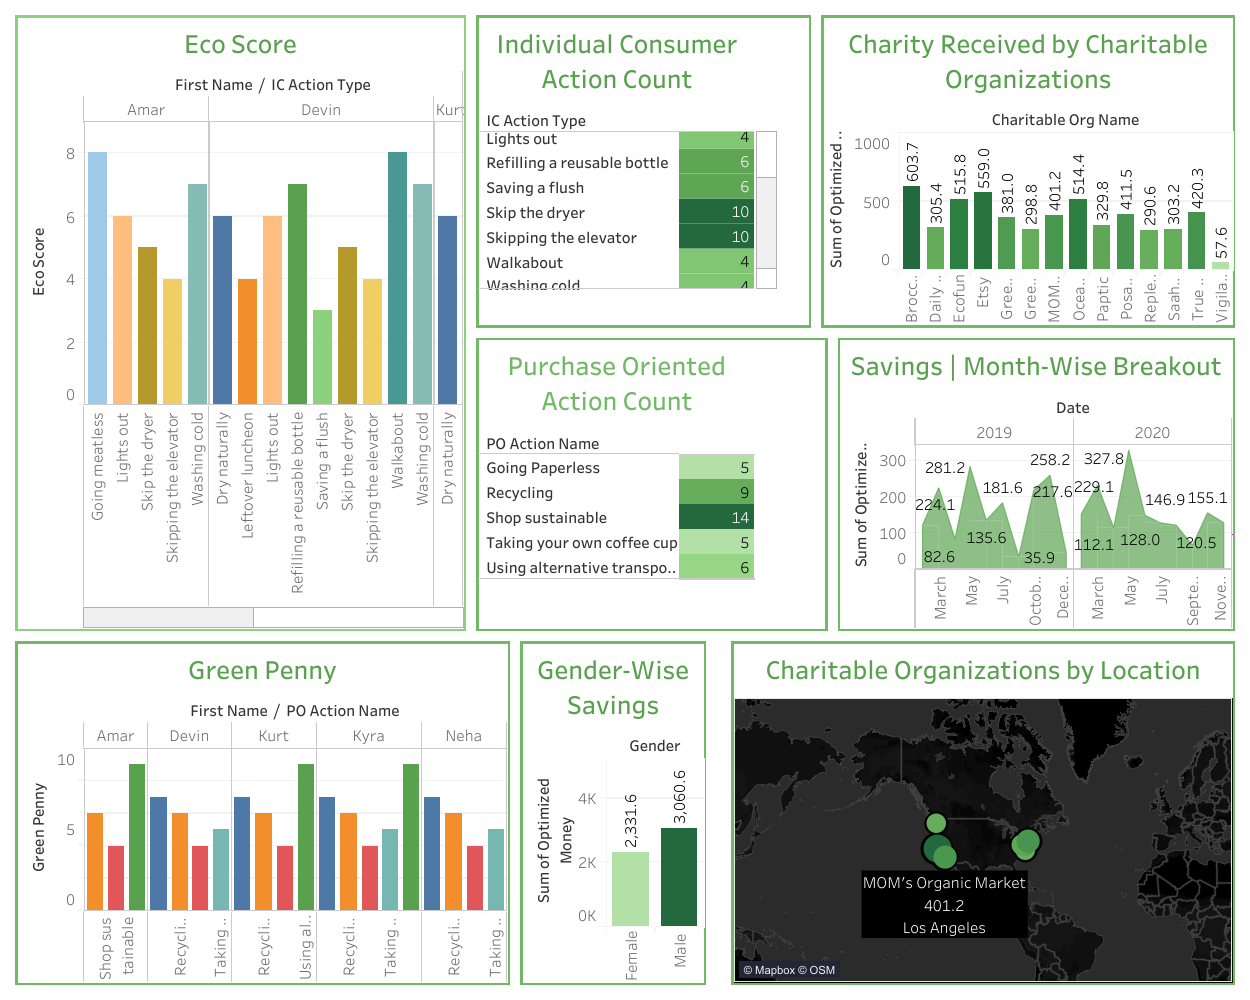

The dashboard page shown, as its layout file describes it:
{"tool":"tableau","page":{"name":"Dashboard 1","canvas":[1300,800],"ordinal":0},"visuals":[{"type":"worksheet","box":[0,0,1300,800]},{"type":"worksheet","param":"horz","box":[8,8,1284,784]},{"type":"worksheet","param":"horz","box":[8,8,1201,784]},{"type":"worksheet","param":"horz","box":[8,8,1201,784]},{"type":"worksheet","param":"horz","box":[8,8,1201,784]},{"type":"worksheet","param":"horz","box":[8,8,1201,784]},{"type":"worksheet","param":"horz","box":[8,8,1201,784]},{"type":"worksheet","param":"horz","box":[8,8,1201,784]},{"type":"worksheet","param":"horz","box":[8,8,1201,784]},{"type":"worksheet","param":"horz","box":[8,8,1201,784]},{"type":"worksheet","param":"horz","box":[8,8,1201,784]},{"type":"worksheet","param":"horz","box":[8,8,1201,784]},{"type":"worksheet","param":"horz","box":[8,8,1201,784]},{"type":"worksheet","box":[8,8,1201,784]},{"type":"worksheet","title":"Eco Score","mark":"Automatic","rows":["Eco Score"],"cols":["First_Name","IC_Action_Type"],"box":[8,8,317,501]},{"type":"worksheet","title":"Individual Consumer Action Count- View 1","mark":"Square","rows":["IC_Action_Type"],"box":[325,8,270,258]},{"type":"worksheet","title":"Charity Received by Charitable Organizations-View 1","mark":"Automatic","rows":["Calculation_776378410555744387"],"cols":["Charitable_Org_Name"],"box":[595,8,307,258]},{"type":"worksheet","title":"Charitable Organiations by Location","mark":"Automatic","box":[902,8,307,258]},{"type":"worksheet","param":"vert","box":[1209,8,83,784]},{"type":"worksheet","title":"Eco Score","mark":"Automatic","rows":["Eco Score"],"cols":["First_Name","IC_Action_Type"],"param":"[federated.19hixc1172wyis12emc420xpgt5j].[none:First_Name:nk]","box":[1209,8,83,153]},{"type":"worksheet","title":"Count of PO Actions View 2","mark":"Pie","param":"[federated.19hixc1172wyis12emc420xpgt5j].[sum:CarbonFootprint:qk]","box":[1209,161,83,47]},{"type":"worksheet","title":"Purchase Oriented Action Count- View 1","mark":"Square","rows":["PO_Action_Name"],"box":[325,266,270,243]},{"type":"worksheet","title":"Savings | Month Wise Breakout","mark":"Area","rows":["Calculation_776378410555744387"],"cols":["Date","Date"],"box":[595,266,614,243]},{"type":"worksheet","box":[8,509,1201,283]},{"type":"worksheet","param":"horz","box":[8,509,562,283]},{"type":"worksheet","title":"Green Penny","mark":"Automatic","rows":["Green Penny"],"cols":["First_Name","PO_Action_Name"],"box":[8,509,404,283]},{"type":"worksheet","title":"Gender-Wise Savings","mark":"Automatic","rows":["Calculation_776378410555744387"],"cols":["Gender"],"box":[412,509,157,283]},{"type":"worksheet","param":"horz","box":[570,509,639,283]},{"type":"worksheet","title":"Count of IC Actions- View 2","mark":"Pie","box":[570,509,319.5,283]},{"type":"worksheet","title":"Count of PO Actions View 2","mark":"Pie","box":[889.5,509,319.5,283]}]}

Visuals, with their boxes on the page's 1300x800 design canvas (x1, y1, x2, y2). These are canvas units, not pixel positions in the 1250x1000 screenshot, which may show the page scaled, cropped or inside an application window:
worksheet: <region>0, 0, 1300, 800</region>
worksheet: <region>8, 8, 1292, 792</region>
worksheet: <region>8, 8, 1209, 792</region>
worksheet: <region>8, 8, 1209, 792</region>
worksheet: <region>8, 8, 1209, 792</region>
worksheet: <region>8, 8, 1209, 792</region>
worksheet: <region>8, 8, 1209, 792</region>
worksheet: <region>8, 8, 1209, 792</region>
worksheet: <region>8, 8, 1209, 792</region>
worksheet: <region>8, 8, 1209, 792</region>
worksheet: <region>8, 8, 1209, 792</region>
worksheet: <region>8, 8, 1209, 792</region>
worksheet: <region>8, 8, 1209, 792</region>
worksheet: <region>8, 8, 1209, 792</region>
"Eco Score" worksheet: <region>8, 8, 325, 509</region>
"Individual Consumer Action Count- View 1" worksheet (Square marks): <region>325, 8, 595, 266</region>
"Charity Received by Charitable Organizations-View 1" worksheet: <region>595, 8, 902, 266</region>
"Charitable Organiations by Location" worksheet: <region>902, 8, 1209, 266</region>
worksheet: <region>1209, 8, 1292, 792</region>
"Eco Score" worksheet: <region>1209, 8, 1292, 161</region>
"Count of PO Actions View 2" worksheet (Pie marks): <region>1209, 161, 1292, 208</region>
"Purchase Oriented Action Count- View 1" worksheet (Square marks): <region>325, 266, 595, 509</region>
"Savings | Month Wise Breakout" worksheet (Area marks): <region>595, 266, 1209, 509</region>
worksheet: <region>8, 509, 1209, 792</region>
worksheet: <region>8, 509, 570, 792</region>
"Green Penny" worksheet: <region>8, 509, 412, 792</region>
"Gender-Wise Savings" worksheet: <region>412, 509, 569, 792</region>
worksheet: <region>570, 509, 1209, 792</region>
"Count of IC Actions- View 2" worksheet (Pie marks): <region>570, 509, 890, 792</region>
"Count of PO Actions View 2" worksheet (Pie marks): <region>890, 509, 1209, 792</region>
